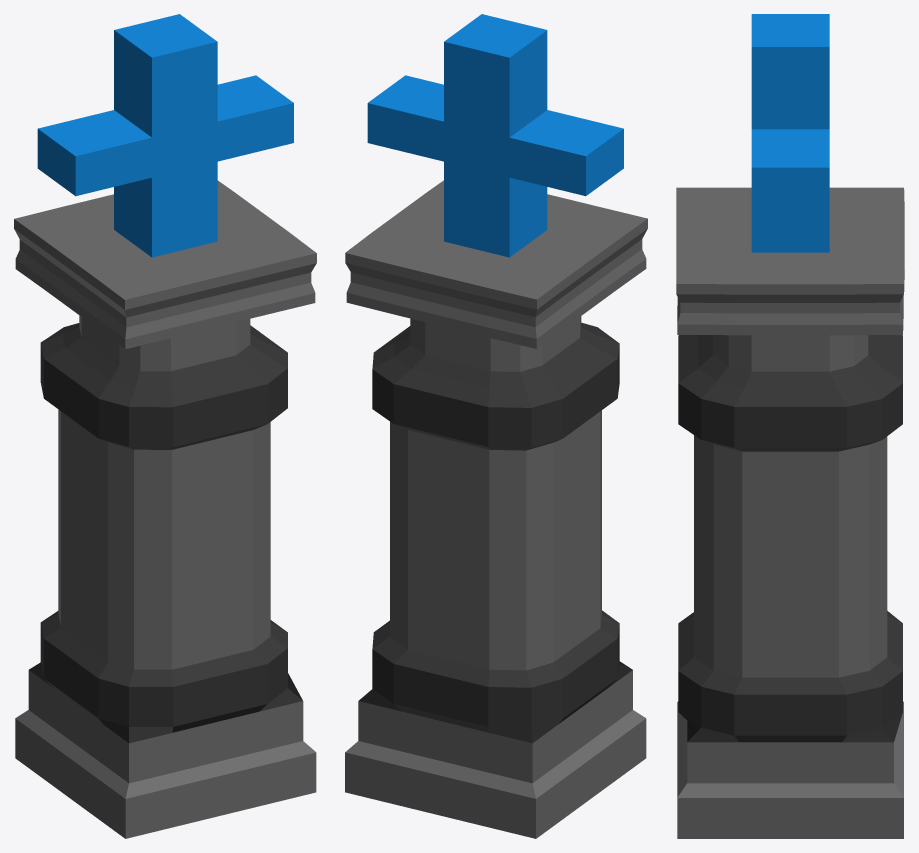
File: PlussPillar.FBX
3 renders of one model, left to right at view 1: azimuth 30°, elevation 25°; view 2: azimuth 150°, elevation 25°; view 3: azimuth 270°, elevation 25°, orthographic. The views are drawn at different scales.
Visible parts, largest first — view 1: Box001; view 2: Box001; view 3: Box001.
Boxes of the visible parts, left/top/right/bottom form: Box001: left=14, top=14, right=316, bottom=838; Box001: left=345, top=14, right=647, bottom=838; Box001: left=676, top=14, right=904, bottom=838.
Size of the model in its own units: 22.87 by 74 by 20.15.
